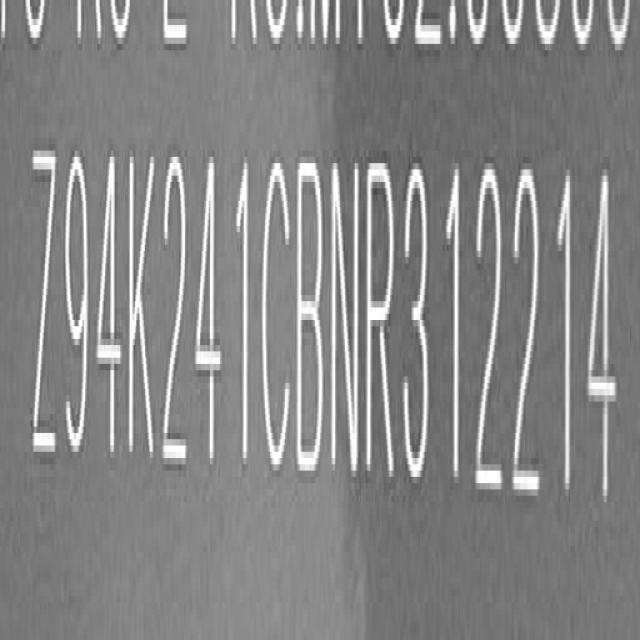1: (551, 162, 576, 514), (442, 160, 464, 492), (233, 152, 252, 481)
2: (512, 164, 545, 515), (472, 159, 502, 507), (163, 148, 193, 480)
3: (403, 162, 434, 490)
4: (588, 167, 622, 522), (96, 143, 124, 470), (198, 148, 225, 479)
9: (63, 148, 89, 472)
B: (296, 155, 328, 486)
C: (259, 157, 293, 480)
K: (127, 139, 157, 468)
N: (328, 154, 362, 484)
R: (367, 159, 401, 486)
Z: (30, 142, 61, 473)
